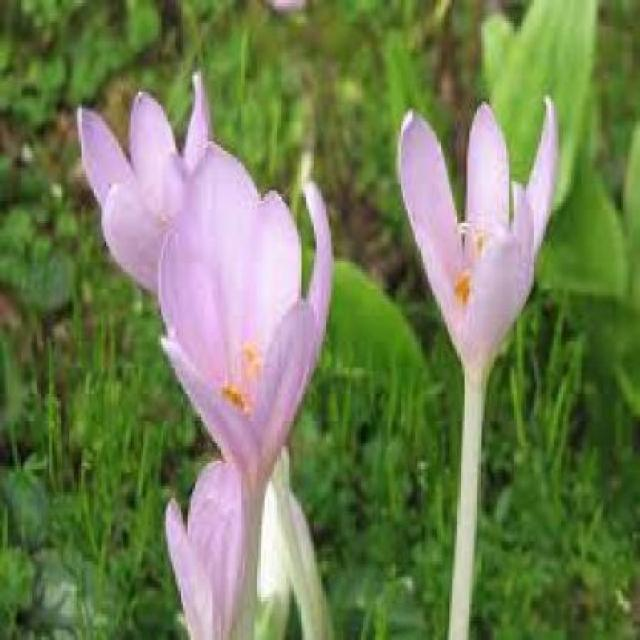saffron open: (400, 101, 556, 639), (159, 144, 331, 494)
